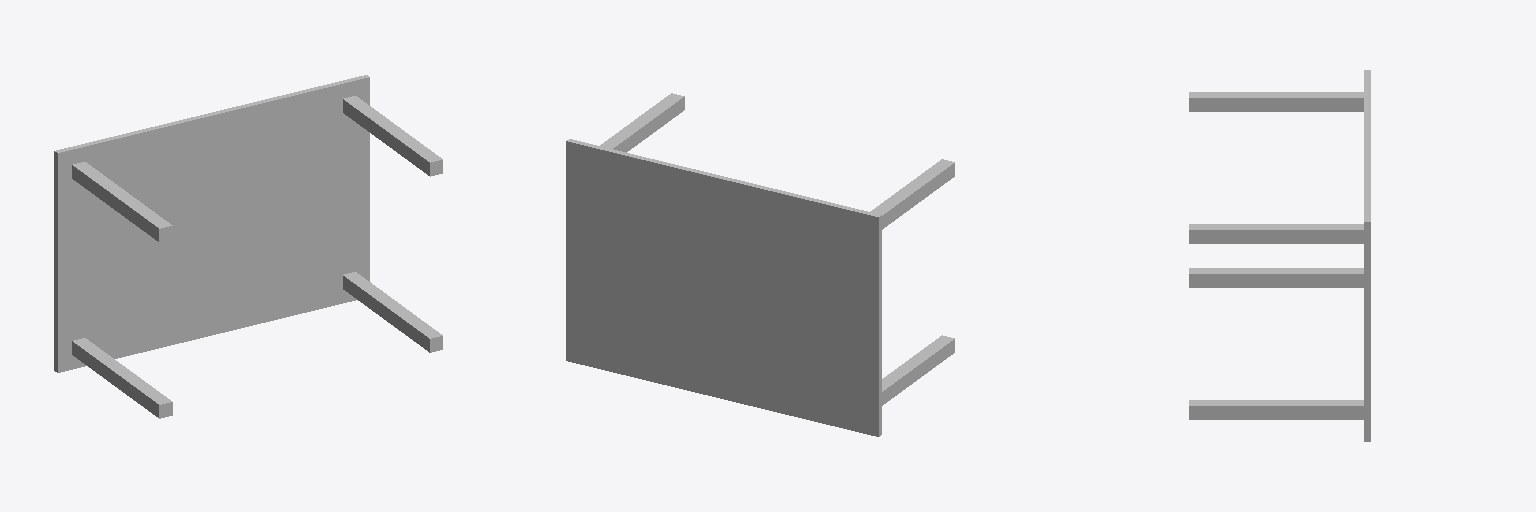
The model's file is random_table22.obj.
The picture shows the model from 3 angles: view 1: azimuth 30°, elevation 25°; view 2: azimuth 150°, elevation 25°; view 3: azimuth 270°, elevation 25°; orthographic projection.
Parts seen in each view (by area): view 1: Table_Cube.305, TableLeg1_Cube.307, TableLeg3_Cube.309, TableLeg2_Cube.308, TableLeg0_Cube.306; view 2: Table_Cube.305, TableLeg1_Cube.307, TableLeg3_Cube.309, TableLeg0_Cube.306; view 3: TableLeg0_Cube.306, TableLeg1_Cube.307, TableLeg2_Cube.308, TableLeg3_Cube.309, Table_Cube.305.
Part boxes in pixels (x1,y1,x2,y2): Table_Cube.305: (54, 75, 369, 372); TableLeg1_Cube.307: (72, 162, 172, 242); TableLeg3_Cube.309: (72, 338, 172, 418); TableLeg2_Cube.308: (343, 272, 442, 352); TableLeg0_Cube.306: (343, 96, 442, 176); Table_Cube.305: (566, 139, 881, 436); TableLeg1_Cube.307: (870, 159, 954, 229); TableLeg3_Cube.309: (882, 335, 954, 405); TableLeg0_Cube.306: (600, 93, 684, 152); TableLeg0_Cube.306: (1189, 224, 1363, 243); TableLeg1_Cube.307: (1189, 92, 1363, 111); TableLeg2_Cube.308: (1189, 400, 1363, 419); TableLeg3_Cube.309: (1189, 268, 1363, 287); Table_Cube.305: (1364, 70, 1370, 441).
Bounding box in the file's own units: 8.05 × 5.41 × 4.05.